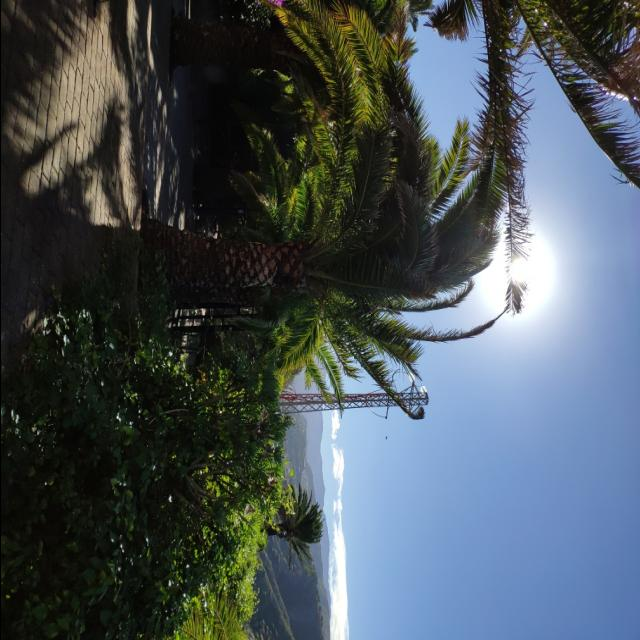Palm-Trees: (144, 104, 502, 426)
